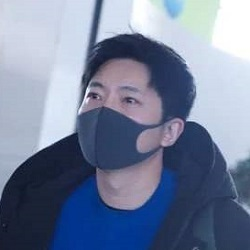mask: (77, 82, 175, 172)
